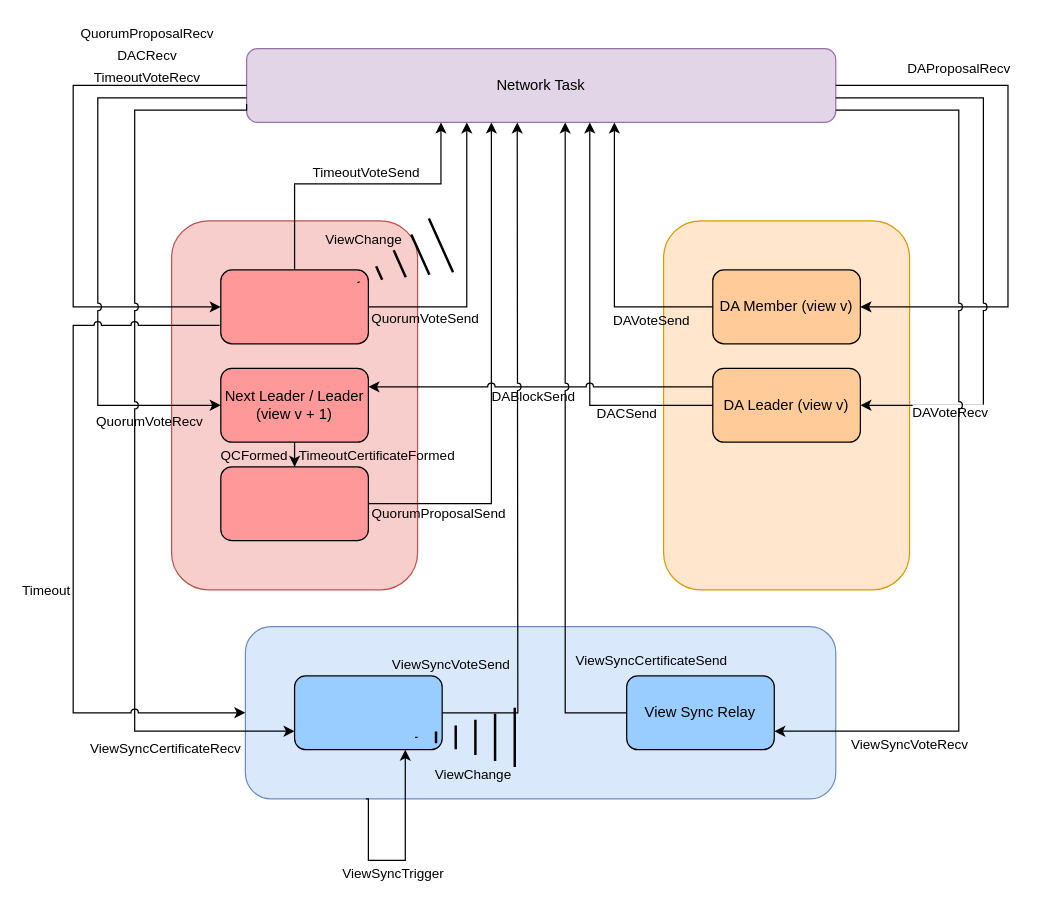
Image size: 1039x903. Some labels were removed from this diagram. Each missing label, with the centre of its shape:
Leader (view v): (294,503)
Replica (view v): (294,306)
View Sync Replica: (367,712)
